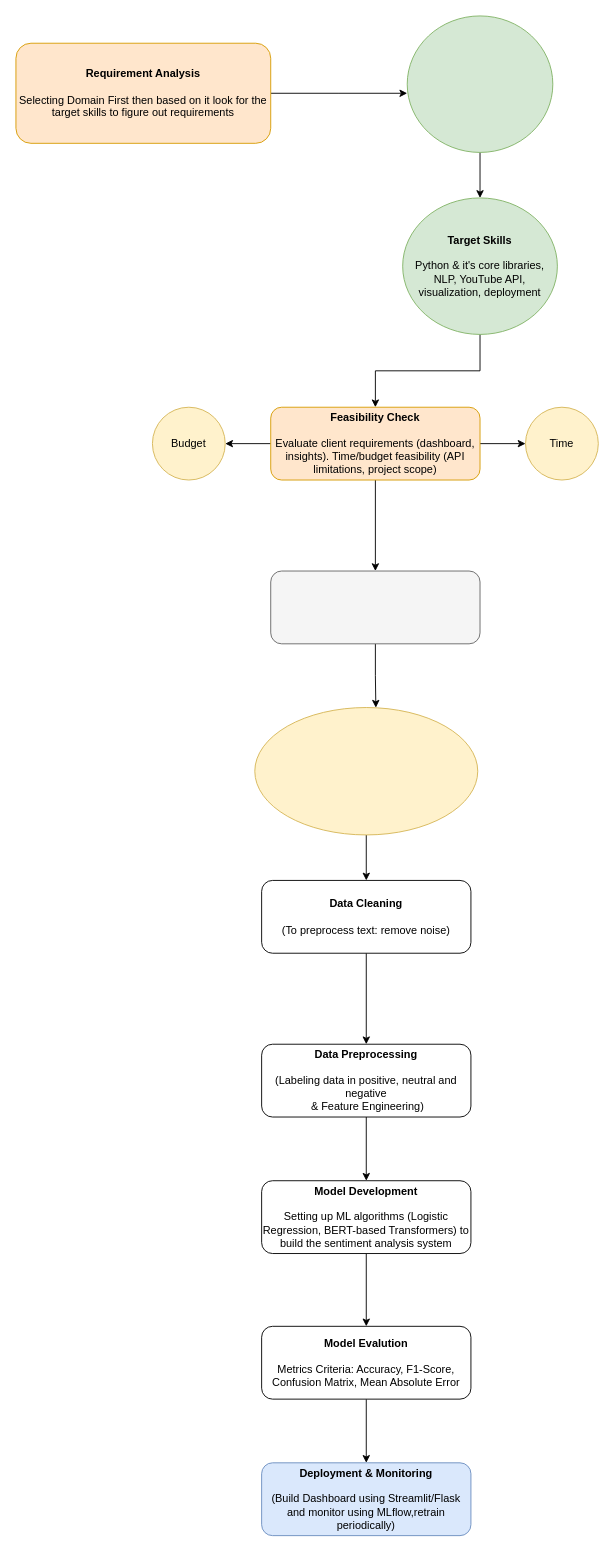
Some shapes in this 614 by 1552 pixel diagram are drawn without their labels. The shapes that lost their labels are listed below. From the top down, each one's centre as x and y in pixels, then its label:
At (479,83): "Domain Sentiment Analysis for YouTube comment".
At (375,607): "Data Collection The first phase in the production process".
At (366,771): "Existing Dataset YouTube Data API to extract comments and metadata".
